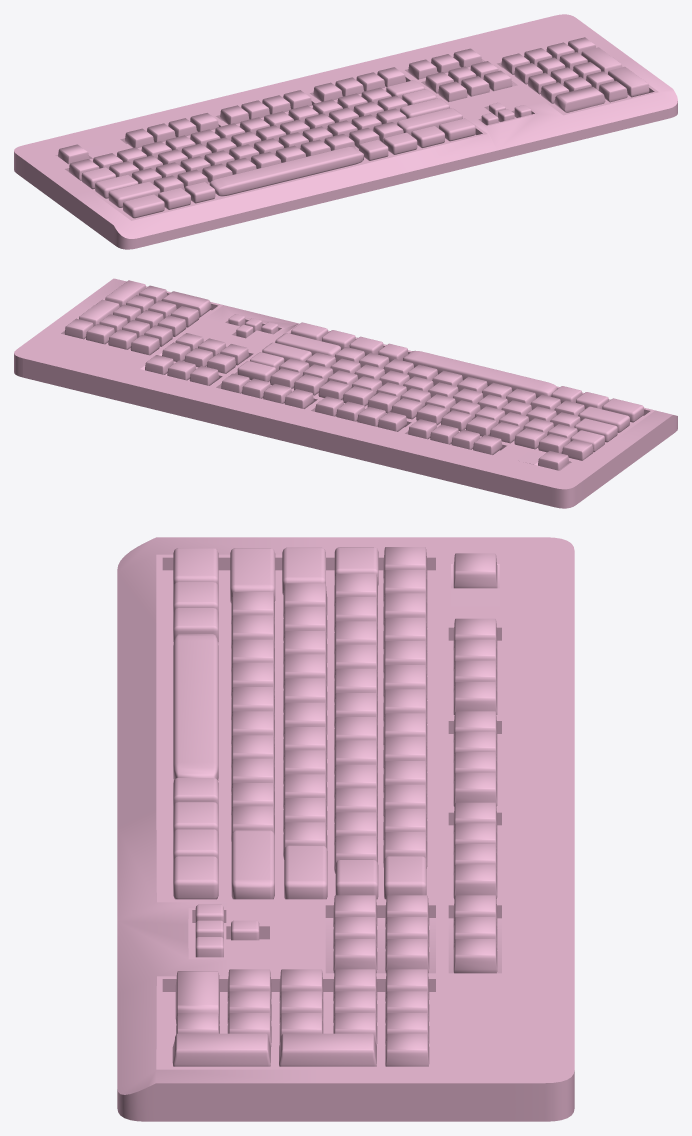
Rendered from work-06.glb.
The picture shows the model from 3 angles, top to bottom: view 1: azimuth 30°, elevation 25°; view 2: azimuth 150°, elevation 25°; view 3: azimuth 270°, elevation 25°; orthographic projection. The views are drawn at different scales.
Parts seen in each view (by area): view 1: Box001, ChamferBox105, ChamferBox043, ChamferBox101, ChamferBox090, ChamferBox102, ChamferBox041, ChamferBox106, ChamferBox089, ChamferBox040, ChamferBox109, ChamferBox077 (+32 smaller); view 2: Box001, ChamferBox105, ChamferBox101, ChamferBox090, ChamferBox043, ChamferBox089, ChamferBox041, ChamferBox102, ChamferBox040, ChamferBox062, ChamferBox077, ChamferBox061 (+47 smaller); view 3: Box001, ChamferBox105, ChamferBox041, ChamferBox040, ChamferBox101, ChamferBox089, ChamferBox090, ChamferBox106, ChamferBox043, ChamferBox062, ChamferBox077, ChamferBox076 (+89 smaller).
Boxes of the visible parts, x1,y1,x2,y2 form: Box001: [14, 14, 677, 249]; ChamferBox105: [209, 146, 363, 196]; ChamferBox043: [554, 86, 605, 112]; ChamferBox101: [397, 108, 462, 135]; ChamferBox090: [108, 181, 160, 207]; ChamferBox102: [123, 194, 164, 218]; ChamferBox041: [608, 66, 649, 97]; ChamferBox106: [439, 118, 475, 141]; ChamferBox089: [400, 98, 449, 118]; ChamferBox040: [581, 47, 621, 74]; ChamferBox109: [383, 132, 417, 154]; ChamferBox077: [95, 174, 138, 198]; Box001: [14, 278, 677, 508]; ChamferBox105: [403, 350, 557, 398]; ChamferBox101: [275, 333, 340, 356]; ChamferBox090: [578, 406, 629, 432]; ChamferBox043: [161, 291, 211, 317]; ChamferBox089: [262, 342, 311, 362]; ChamferBox041: [105, 280, 145, 306]; ChamferBox102: [602, 398, 643, 422]; ChamferBox040: [79, 299, 119, 326]; ChamferBox062: [237, 361, 275, 381]; ChamferBox077: [574, 418, 617, 442]; ChamferBox061: [562, 439, 593, 460]; Box001: [117, 537, 574, 1121]; ChamferBox105: [173, 634, 218, 780]; ChamferBox041: [172, 1033, 270, 1066]; ChamferBox040: [279, 1033, 376, 1066]; ChamferBox101: [231, 830, 274, 899]; ChamferBox089: [284, 845, 327, 899]; ChamferBox090: [230, 548, 275, 603]; ChamferBox106: [173, 856, 218, 899]; ChamferBox043: [175, 971, 219, 1023]; ChamferBox062: [384, 856, 426, 899]; ChamferBox077: [282, 547, 325, 595]; ChamferBox076: [335, 859, 378, 899].
Size of the model in its own units: 4.56 by 0.2059 by 1.61.
